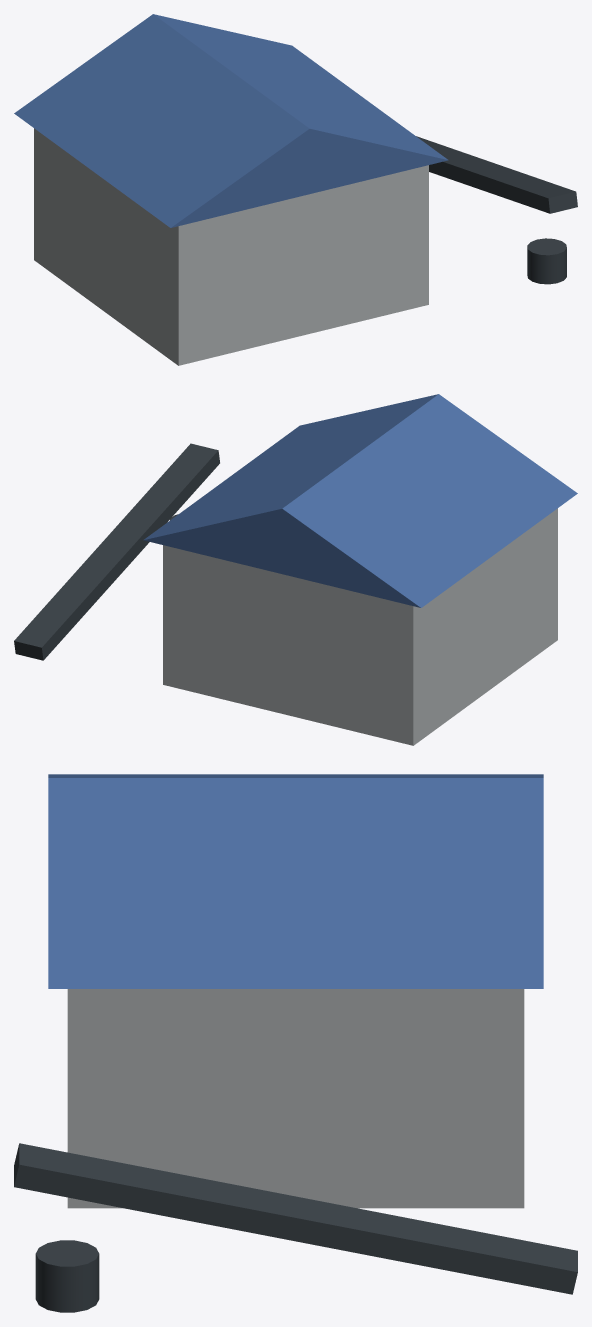
Rendered from launch_pad.glb.
3 views of the same model, one above another, from view 1: azimuth 30°, elevation 25°; view 2: azimuth 150°, elevation 25°; view 3: azimuth 270°, elevation 25° (orthographic). The views are drawn at different scales.
Parts seen in each view (by area): view 1: _MeshInstance3D_45, _MeshInstance3D_46, _MeshInstance3D_47, _MeshInstance3D_48; view 2: _MeshInstance3D_45, _MeshInstance3D_46, _MeshInstance3D_47; view 3: _MeshInstance3D_46, _MeshInstance3D_45, _MeshInstance3D_47, _MeshInstance3D_48.
Boxes of the visible parts, x1,y1,x2,y2 form: _MeshInstance3D_45: (34, 128, 428, 365); _MeshInstance3D_46: (14, 14, 448, 227); _MeshInstance3D_47: (416, 136, 577, 213); _MeshInstance3D_48: (527, 238, 566, 284); _MeshInstance3D_45: (163, 508, 557, 745); _MeshInstance3D_46: (143, 394, 577, 607); _MeshInstance3D_47: (14, 443, 219, 660); _MeshInstance3D_46: (48, 774, 543, 988); _MeshInstance3D_45: (67, 989, 524, 1208); _MeshInstance3D_47: (14, 1143, 577, 1294); _MeshInstance3D_48: (35, 1240, 99, 1312).
Size of the model in its own units: 5.74 by 2.9 by 4.44.
